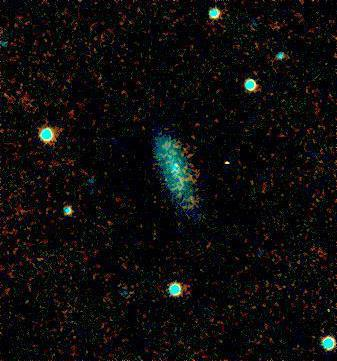star: (211, 145, 241, 175)
